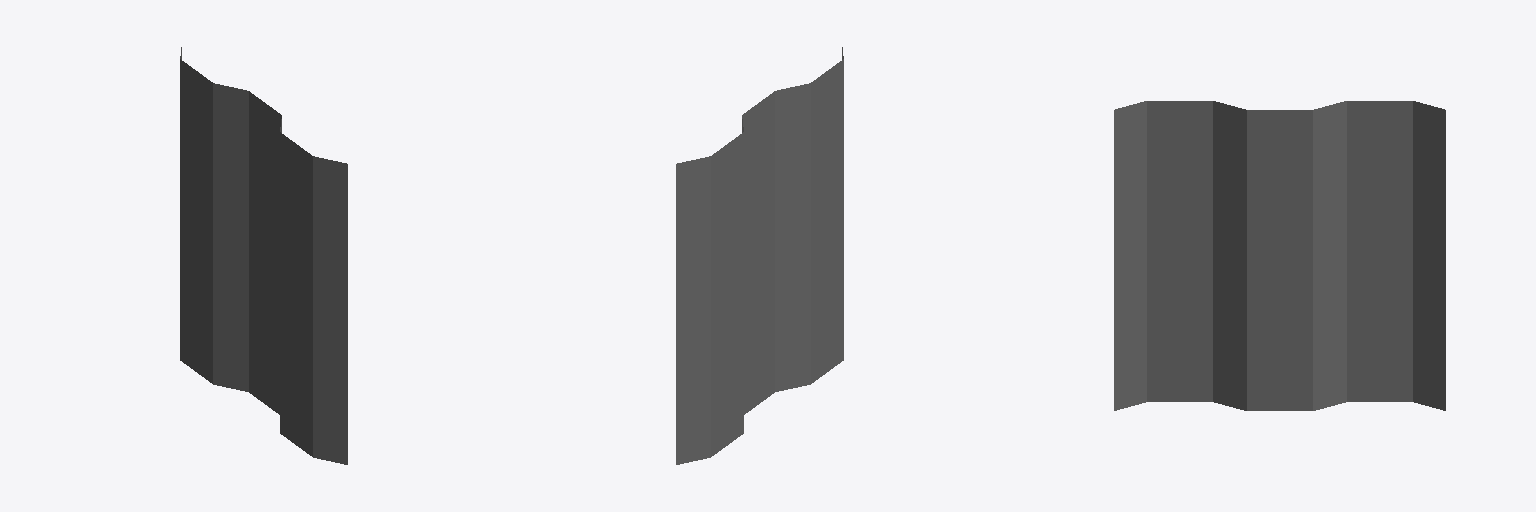
Rendered from leafboi.obj.
The picture shows the model from 3 angles: view 1: azimuth 30°, elevation 25°; view 2: azimuth 150°, elevation 25°; view 3: azimuth 270°, elevation 25°; orthographic projection.
Visible parts, largest first — view 1: leafboi:pPlane1; view 2: leafboi:pPlane1; view 3: leafboi:pPlane1.
Part boxes in pixels (bbox=[...]): leafboi:pPlane1: bbox=[180, 47, 347, 464]; leafboi:pPlane1: bbox=[676, 47, 843, 464]; leafboi:pPlane1: bbox=[1114, 101, 1445, 410].
Bounding box in the file's own units: 0.0646 × 1 × 1.